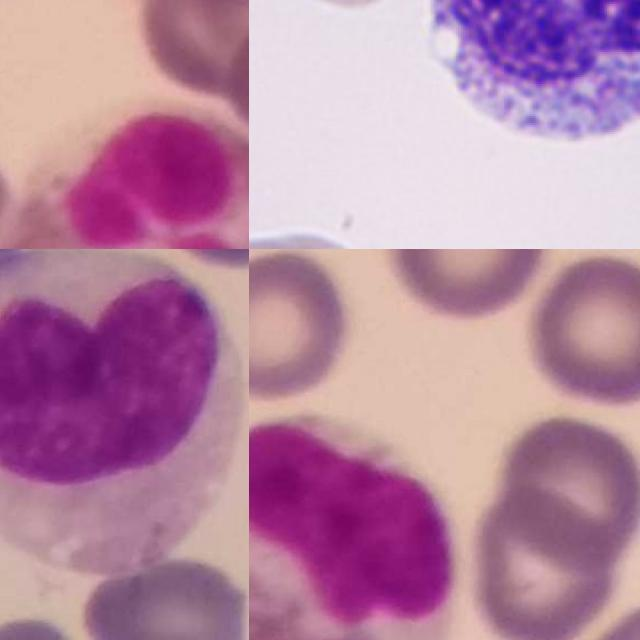Eosinophil: (249, 416, 458, 640), (0, 107, 249, 249)
Lymphocyte: (411, 0, 640, 163)
Monocyte: (0, 249, 249, 581)
RBC: (249, 226, 328, 249)
